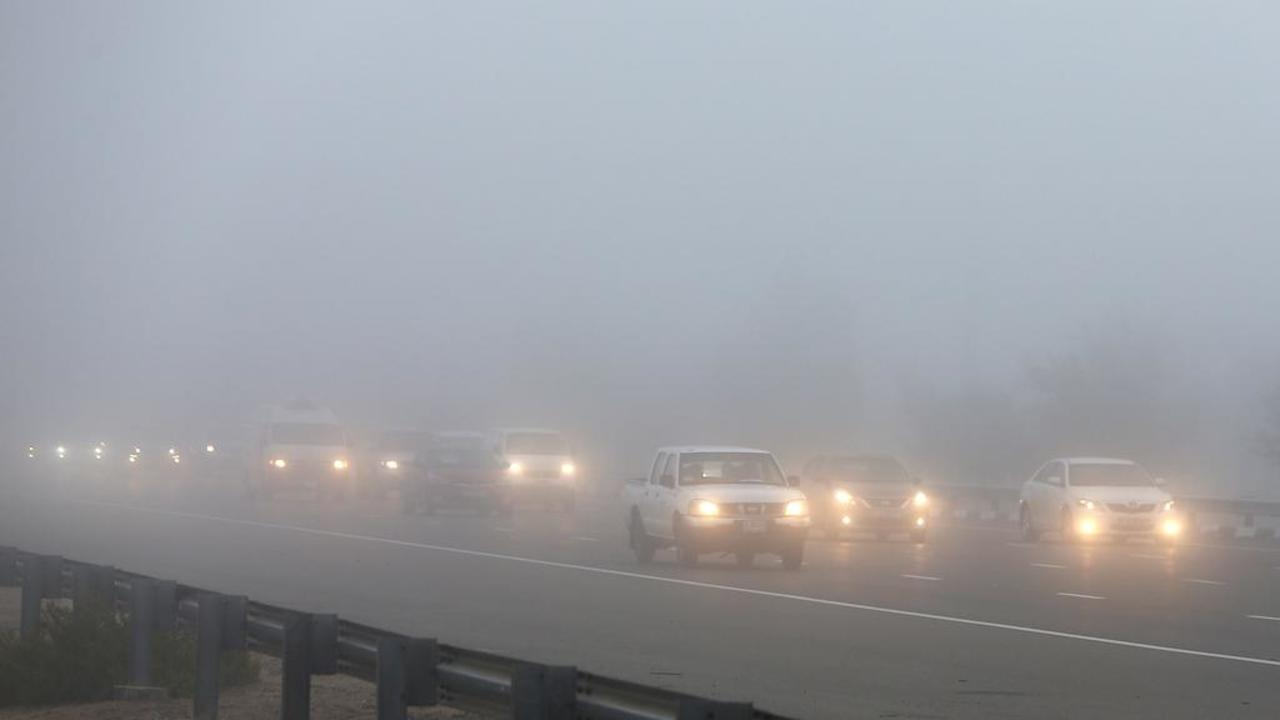car: (621, 445, 812, 571), (1016, 456, 1180, 539), (794, 454, 926, 543), (242, 410, 360, 504), (399, 432, 506, 515), (491, 423, 581, 511), (352, 426, 428, 499)
